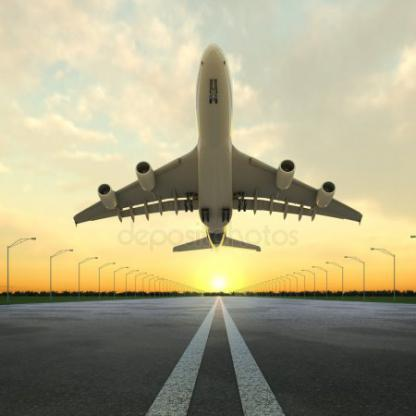CIV_Plane: (71, 40, 365, 254)
